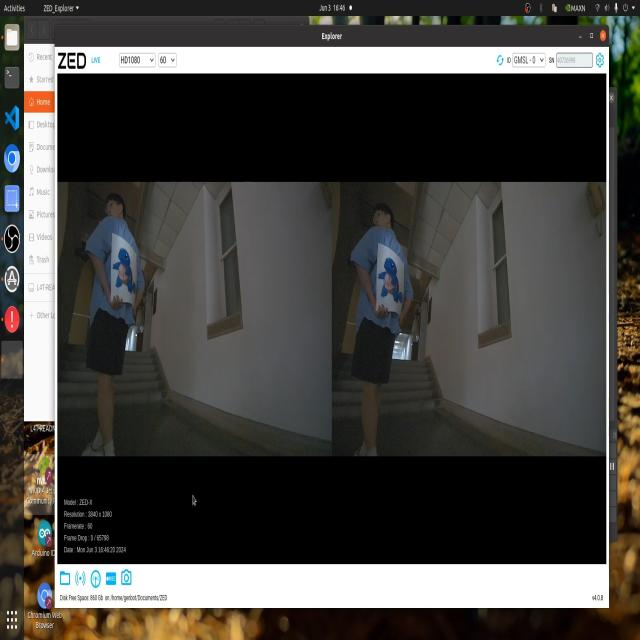blue: (377, 249, 405, 313), (111, 248, 134, 292)
